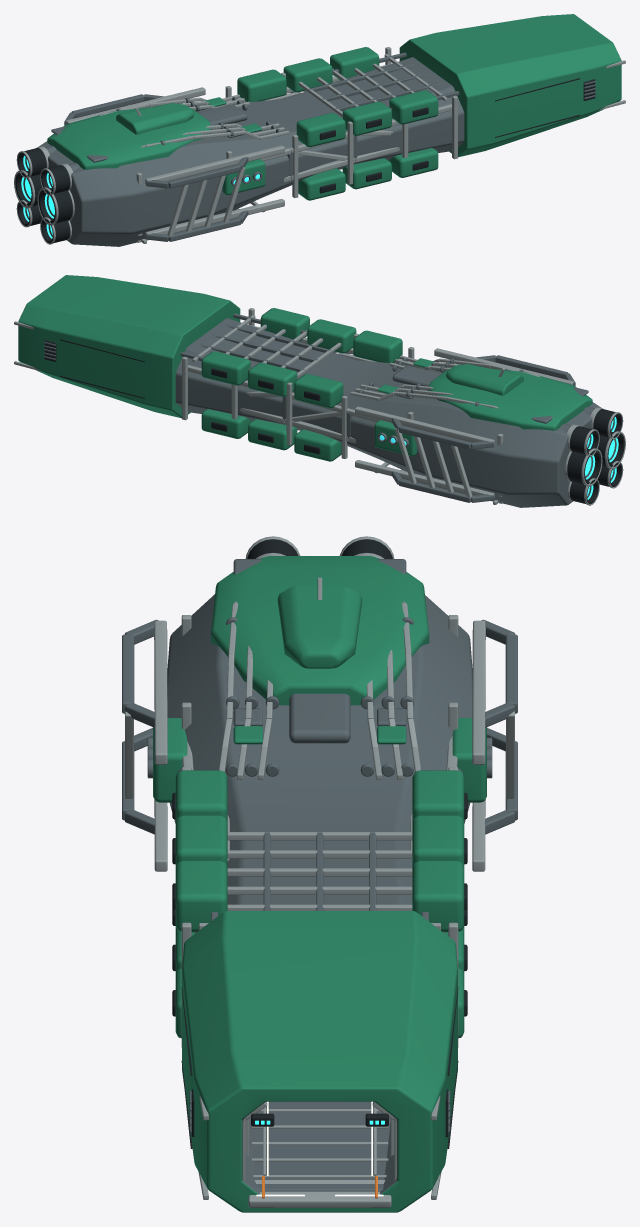
The model's file is shu-supply.glb.
The picture shows the model from 3 angles, top to bottom: view 1: azimuth 30°, elevation 25°; view 2: azimuth 150°, elevation 25°; view 3: azimuth 270°, elevation 25°; orthographic projection. The views are drawn at different scales.
Parts seen in each view (by area): view 1: Structural aft keel, Open octagonal cargo vestibule, Upper aft equipment enclosure, Command bridge, Paneled side cargo module.007, Paneled side cargo module.001, Paneled side cargo module.005, Paneled side cargo module.009, Paneled side cargo module.003, External maintenance longeron.001, Paneled side cargo module.011, Paneled side cargo module (+26 smaller); view 2: Structural aft keel, Open octagonal cargo vestibule, Upper aft equipment enclosure, Command bridge, Paneled side cargo module.001, Paneled side cargo module.007, Paneled side cargo module.011, Paneled side cargo module.003, Paneled side cargo module.009, External maintenance longeron.003, Paneled side cargo module.005, Paneled side cargo module.006 (+26 smaller); view 3: Open octagonal cargo vestibule, Structural aft keel, Upper aft equipment enclosure, Interior loading deck, Command bridge, Paneled side cargo module.005, Paneled side cargo module.011, Dorsal hydraulic service deck, Integrated inclined loading ramp, Paneled side cargo module.003, Paneled side cargo module.009, Paneled side cargo module.001 (+14 smaller).
Boxes of the visible parts, left/top/right/bottom form: Structural aft keel: left=38, top=57, right=464, bottom=246; Open octagonal cargo vestibule: left=399, top=14, right=621, bottom=157; Upper aft equipment enclosure: left=47, top=107, right=212, bottom=169; Command bridge: left=116, top=103, right=193, bottom=134; Paneled side cargo module.007: left=237, top=69, right=286, bottom=101; Paneled side cargo module.001: left=296, top=113, right=345, bottom=147; Paneled side cargo module.005: left=389, top=90, right=438, bottom=124; Paneled side cargo module.009: left=283, top=58, right=332, bottom=92; Paneled side cargo module.003: left=342, top=101, right=391, bottom=135; External maintenance longeron.001: left=145, top=145, right=284, bottom=184; Paneled side cargo module.011: left=330, top=47, right=379, bottom=80; Paneled side cargo module: left=298, top=168, right=345, bottom=200; Structural aft keel: left=175, top=318, right=601, bottom=507; Open octagonal cargo vestibule: left=18, top=275, right=240, bottom=418; Upper aft equipment enclosure: left=427, top=368, right=592, bottom=430; Command bridge: left=446, top=364, right=523, bottom=395; Paneled side cargo module.001: left=353, top=330, right=402, bottom=362; Paneled side cargo module.007: left=294, top=374, right=343, bottom=408; Paneled side cargo module.011: left=201, top=351, right=250, bottom=385; Paneled side cargo module.003: left=307, top=319, right=356, bottom=353; Paneled side cargo module.009: left=248, top=362, right=297, bottom=396; External maintenance longeron.003: left=355, top=406, right=494, bottom=445; Paneled side cargo module.005: left=260, top=308, right=309, bottom=341; Paneled side cargo module.006: left=294, top=429, right=341, bottom=461; Open octagonal cargo vestibule: left=182, top=911, right=457, bottom=1212; Structural aft keel: left=167, top=594, right=472, bottom=904; Upper aft equipment enclosure: left=210, top=556, right=429, bottom=705; Interior loading deck: left=249, top=1101, right=390, bottom=1191; Command bridge: left=277, top=586, right=362, bottom=668; Paneled side cargo module.005: left=175, top=861, right=227, bottom=932; Paneled side cargo module.011: left=412, top=861, right=464, bottom=932; Dorsal hydraulic service deck: left=289, top=693, right=350, bottom=743; Integrated inclined loading ramp: left=248, top=1180, right=391, bottom=1207; Paneled side cargo module.003: left=175, top=815, right=227, bottom=867; Paneled side cargo module.009: left=412, top=815, right=464, bottom=867; Paneled side cargo module.001: left=175, top=770, right=227, bottom=821.
Size of the model in its own units: 800 by 152 by 244.
